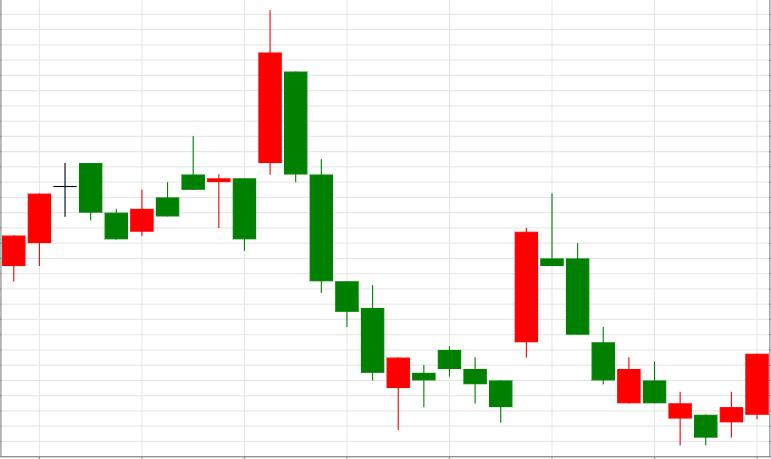hammer_rise: (284, 72, 410, 430)
